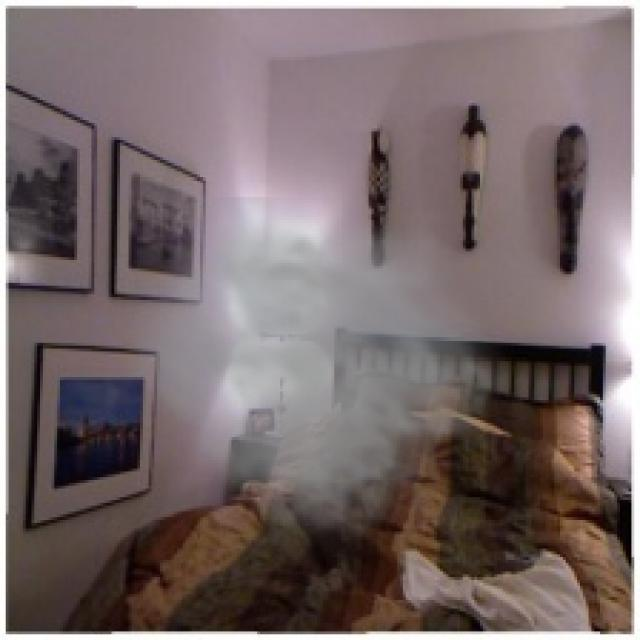smoke: (114, 197, 517, 574)
